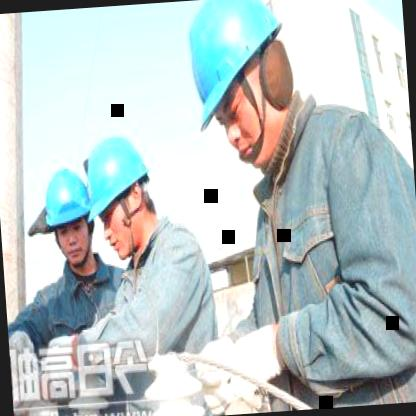helmet: (170, 0, 307, 181), (81, 126, 158, 266), (36, 157, 100, 274)
